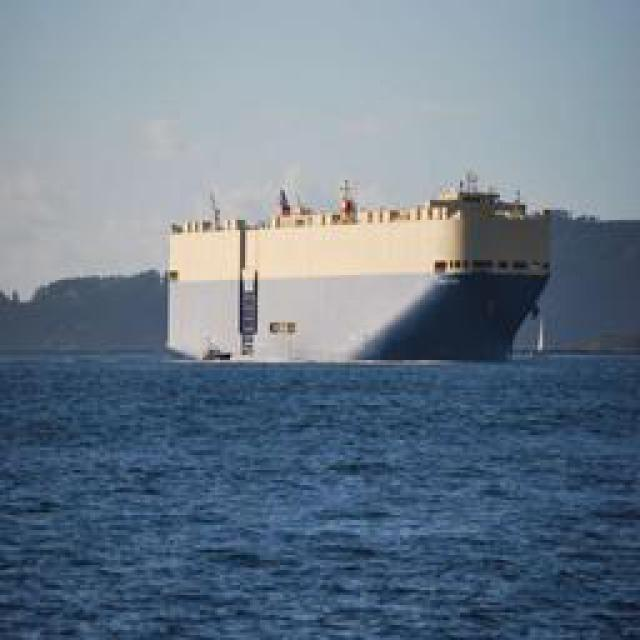Ship: (162, 181, 550, 366)
